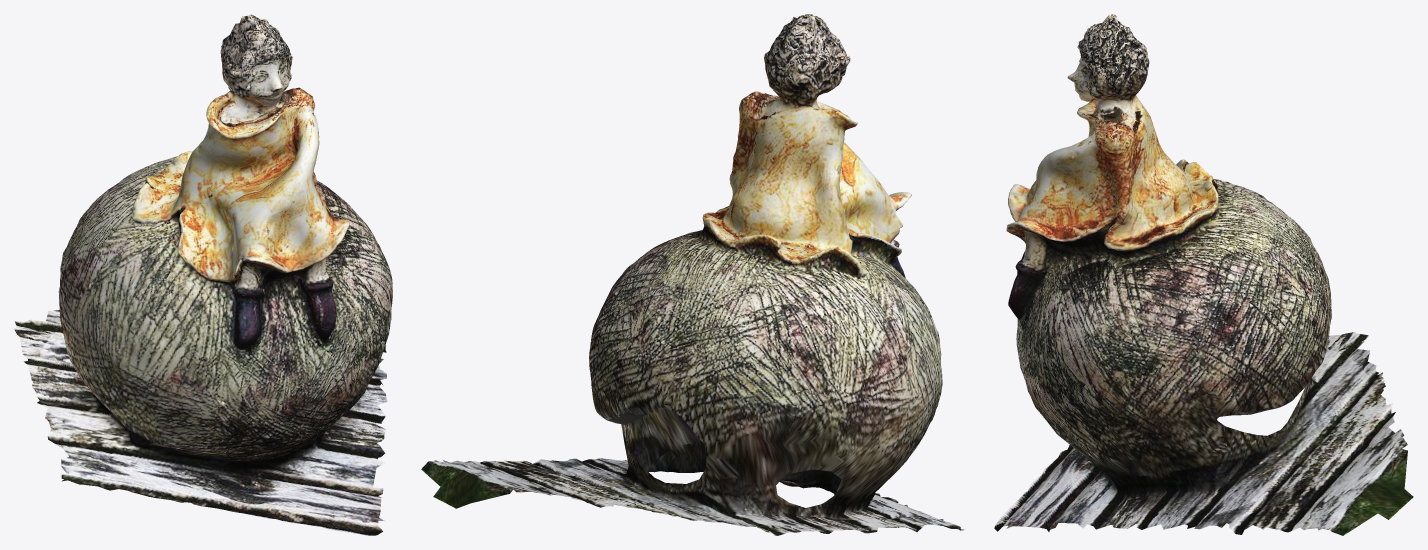
The model's file is goldenGirlOnBall.glb.
3 renders of one model, left to right at view 1: azimuth 30°, elevation 25°; view 2: azimuth 150°, elevation 25°; view 3: azimuth 270°, elevation 25°, orthographic. The views are drawn at different scales.
Visible parts, largest first — view 1: goldenGirlOnBall; view 2: goldenGirlOnBall; view 3: goldenGirlOnBall.
Boxes of the visible parts, left/top/right/bottom form: goldenGirlOnBall: left=14, top=14, right=392, bottom=535; goldenGirlOnBall: left=421, top=14, right=964, bottom=535; goldenGirlOnBall: left=994, top=14, right=1413, bottom=535.
Bounding box in the file's own units: 12.41 × 13.86 × 10.98.
2 materials, 2 textured.
